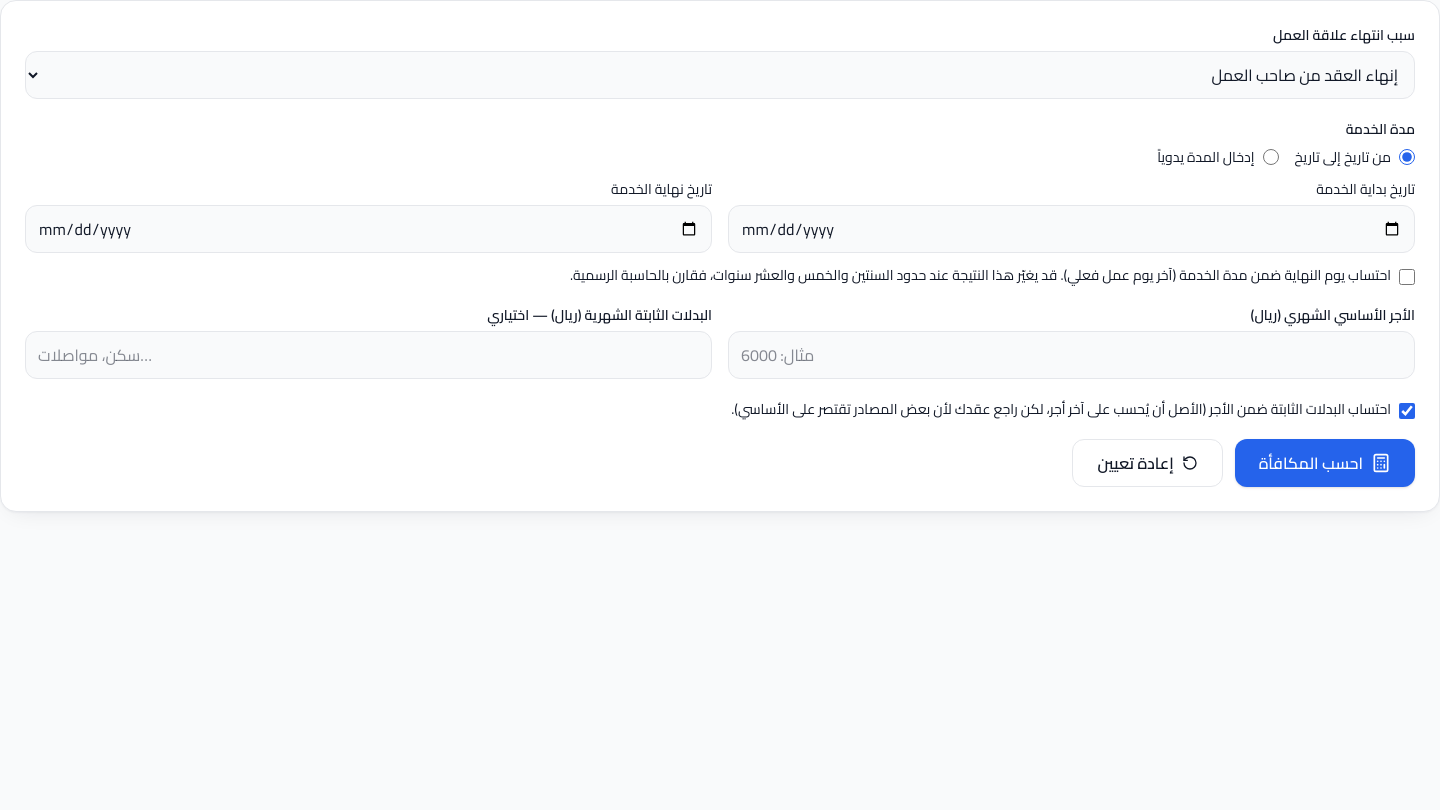
Test: EosCalculator › shows both results when allowances are entered, and honours the checkbox
Click the radio button labelled "إدخال المدة يدوياً" at point(1270, 157), box top-left (1262, 149), bottom-right (1278, 165)
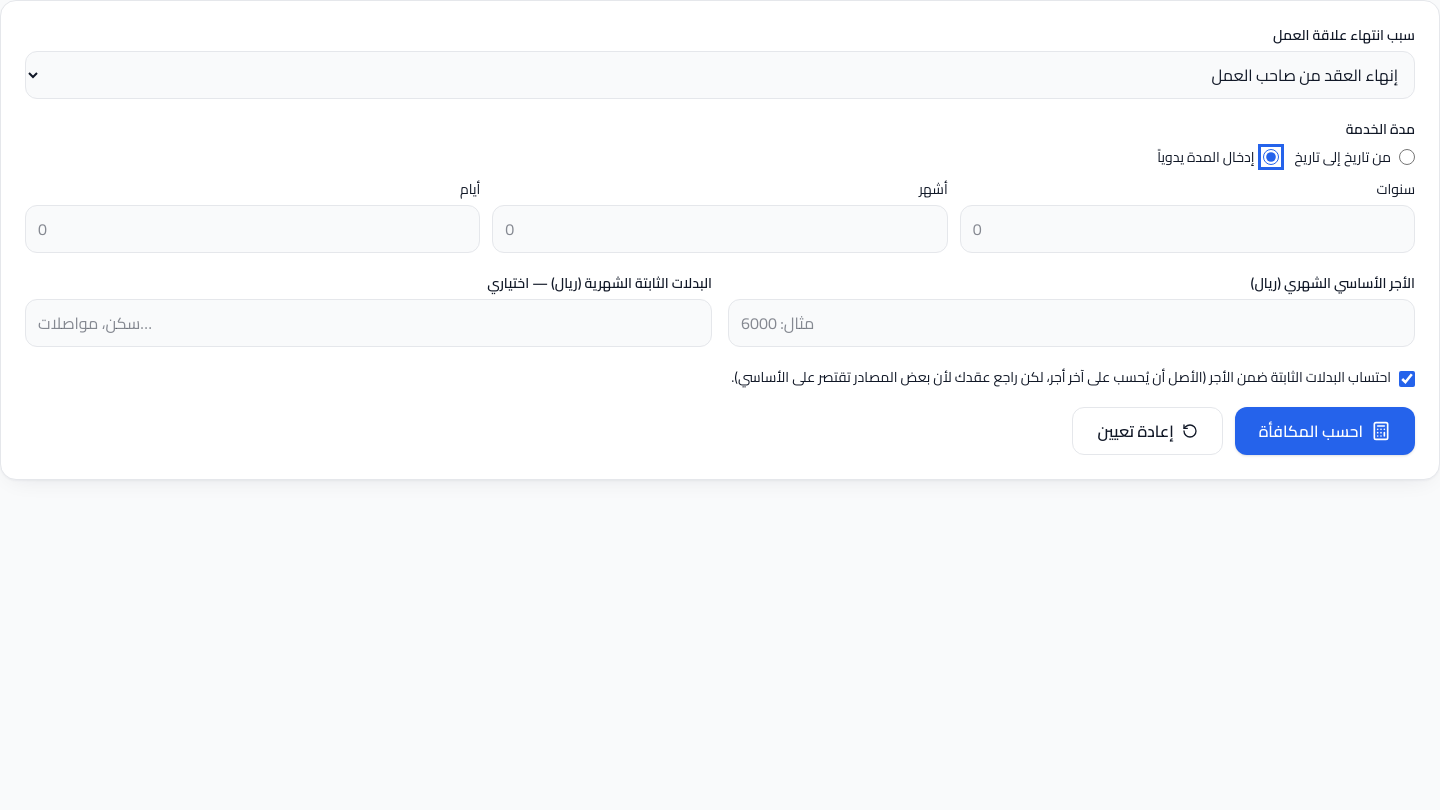
Type "6" into the field labelled "سنوات" at point(1187, 229), box top-left (960, 205), bottom-right (1415, 253)
Type "5000" into the field labelled "الأجر الأساسي الشهري (ريال)" at point(1072, 323), box top-left (728, 299), bottom-right (1415, 347)
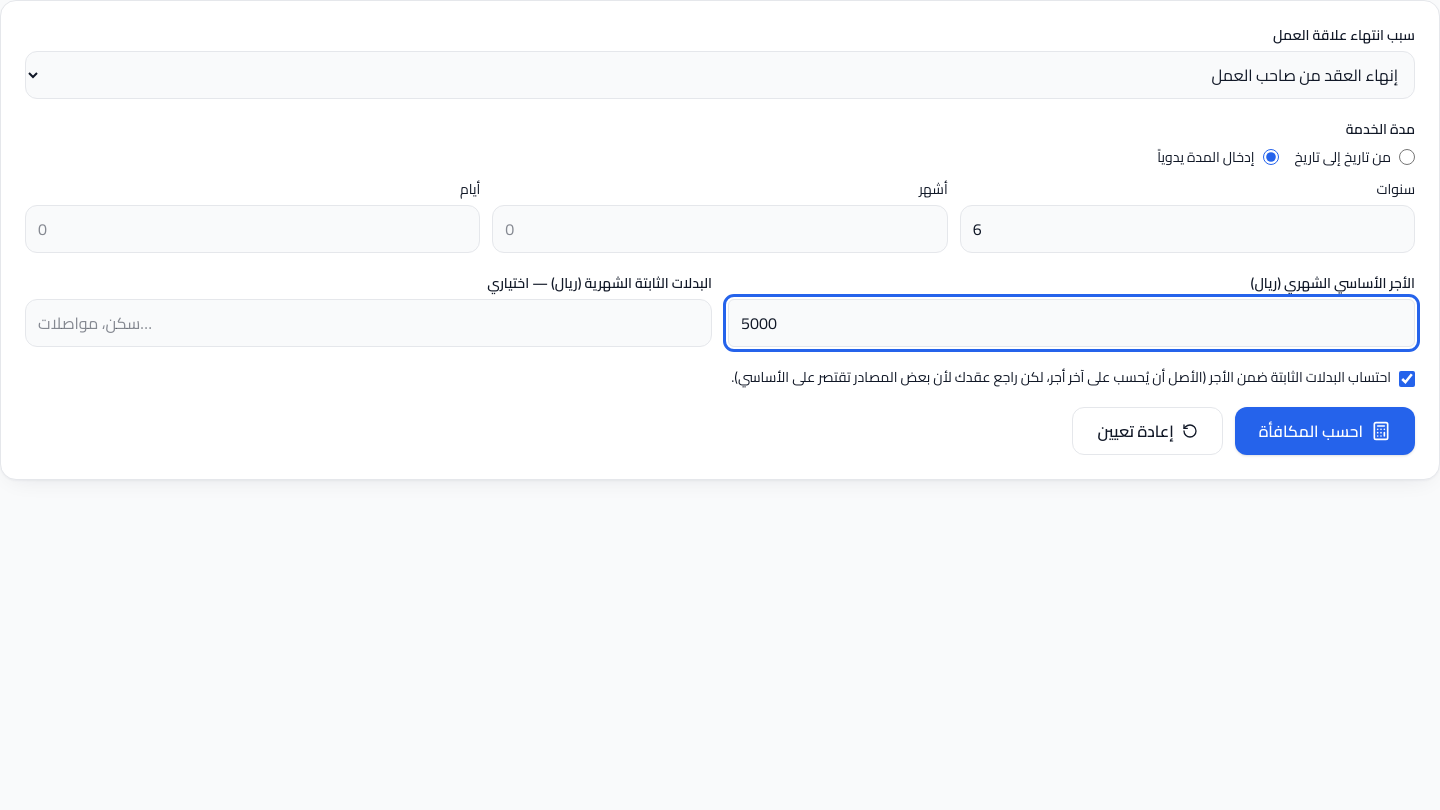
Type "1500" into the field labelled "البدلات الثابتة الشهرية (ريال) — اختياري" at point(368, 323), box top-left (25, 299), bottom-right (712, 347)
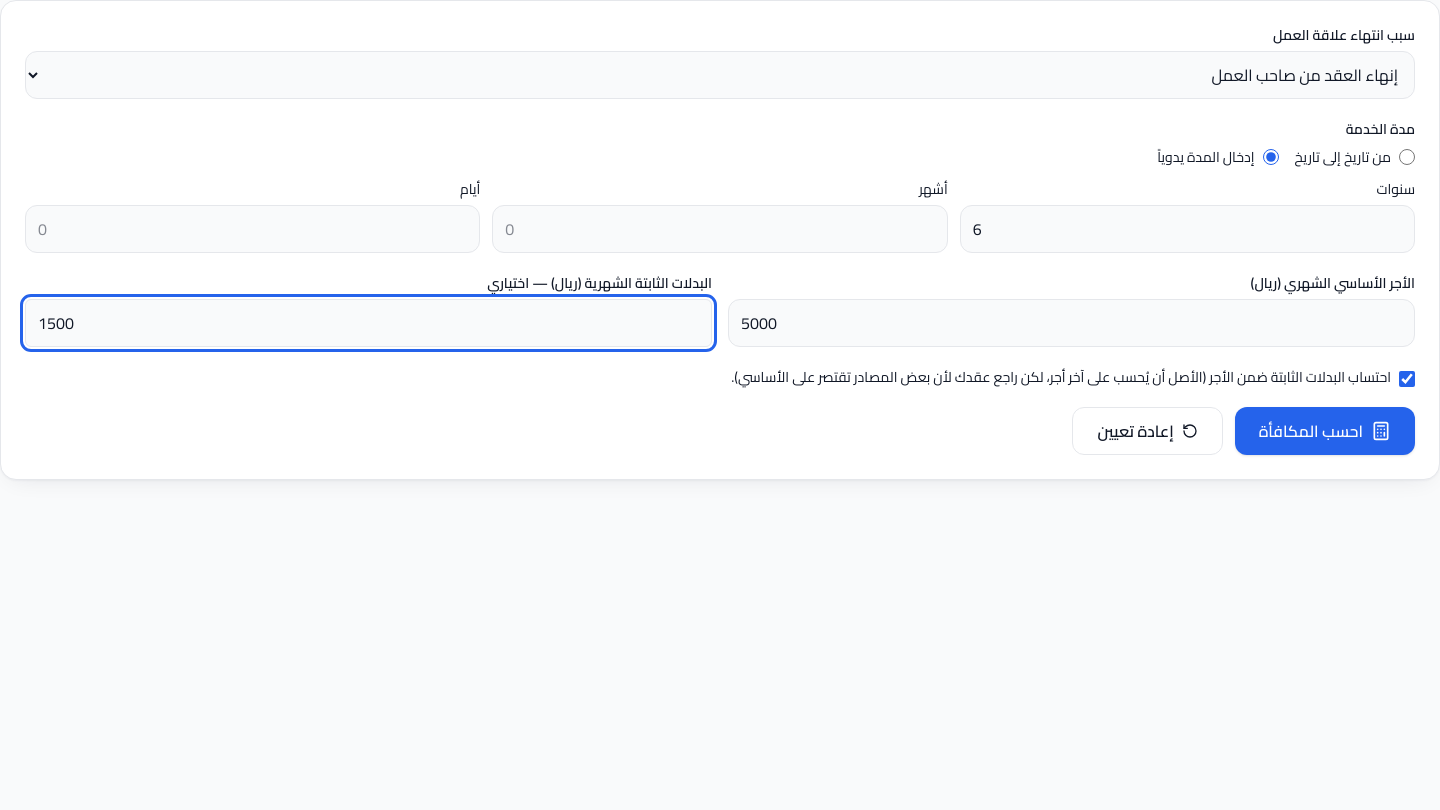
Click the button "احسب المكافأة" at point(1325, 431), box top-left (1235, 407), bottom-right (1415, 455)
(page scrolled)
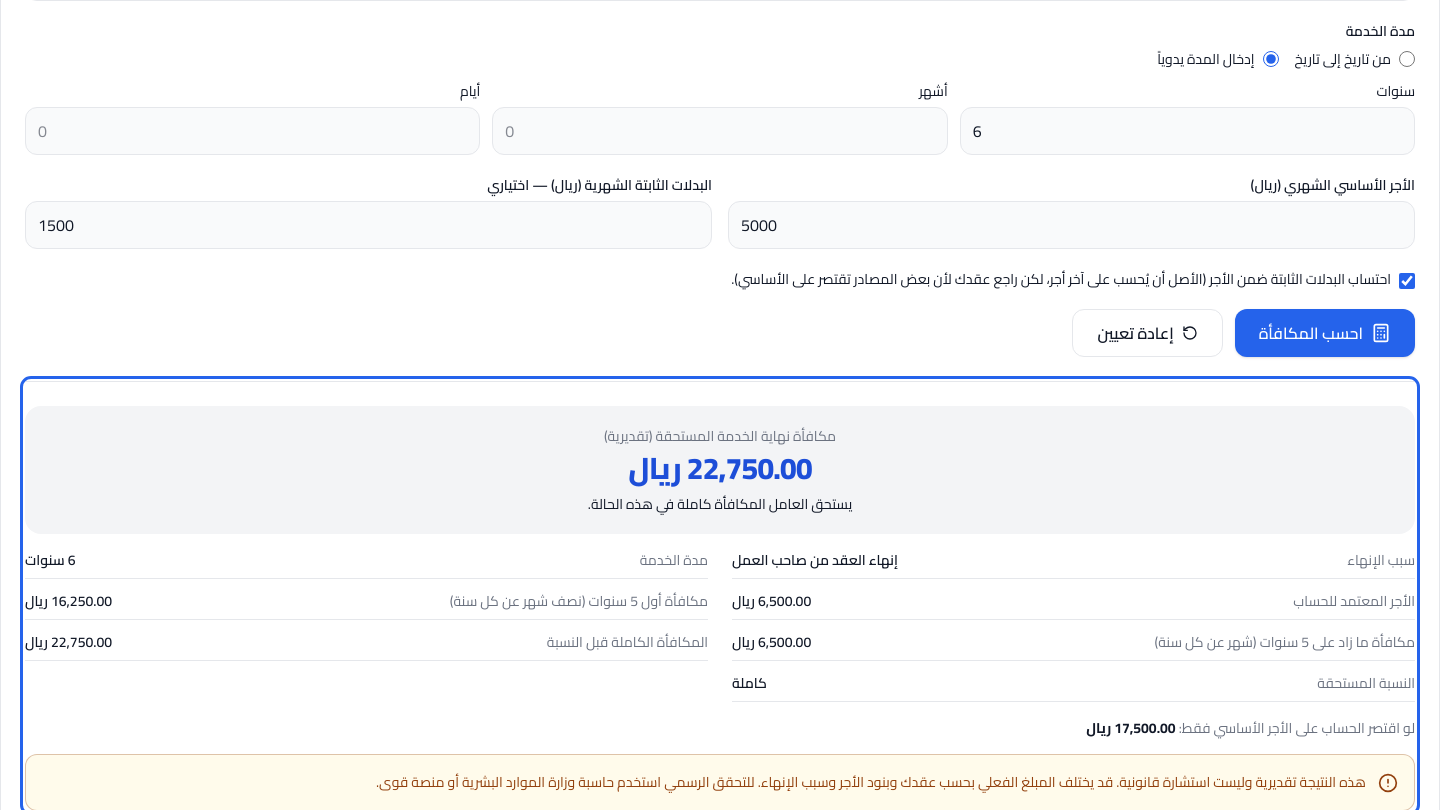
Check: the text with test id "eos-total" reads "22,750.00 ريال", box top-left (628, 440), bottom-right (812, 496)
Check: the element with test id "eos-result" shows "17,500.00 ريال", box top-left (1086, 715), bottom-right (1176, 741)
Click the checkbox labelled "احتساب البدلات" at point(1407, 281), box top-left (1399, 273), bottom-right (1415, 289)
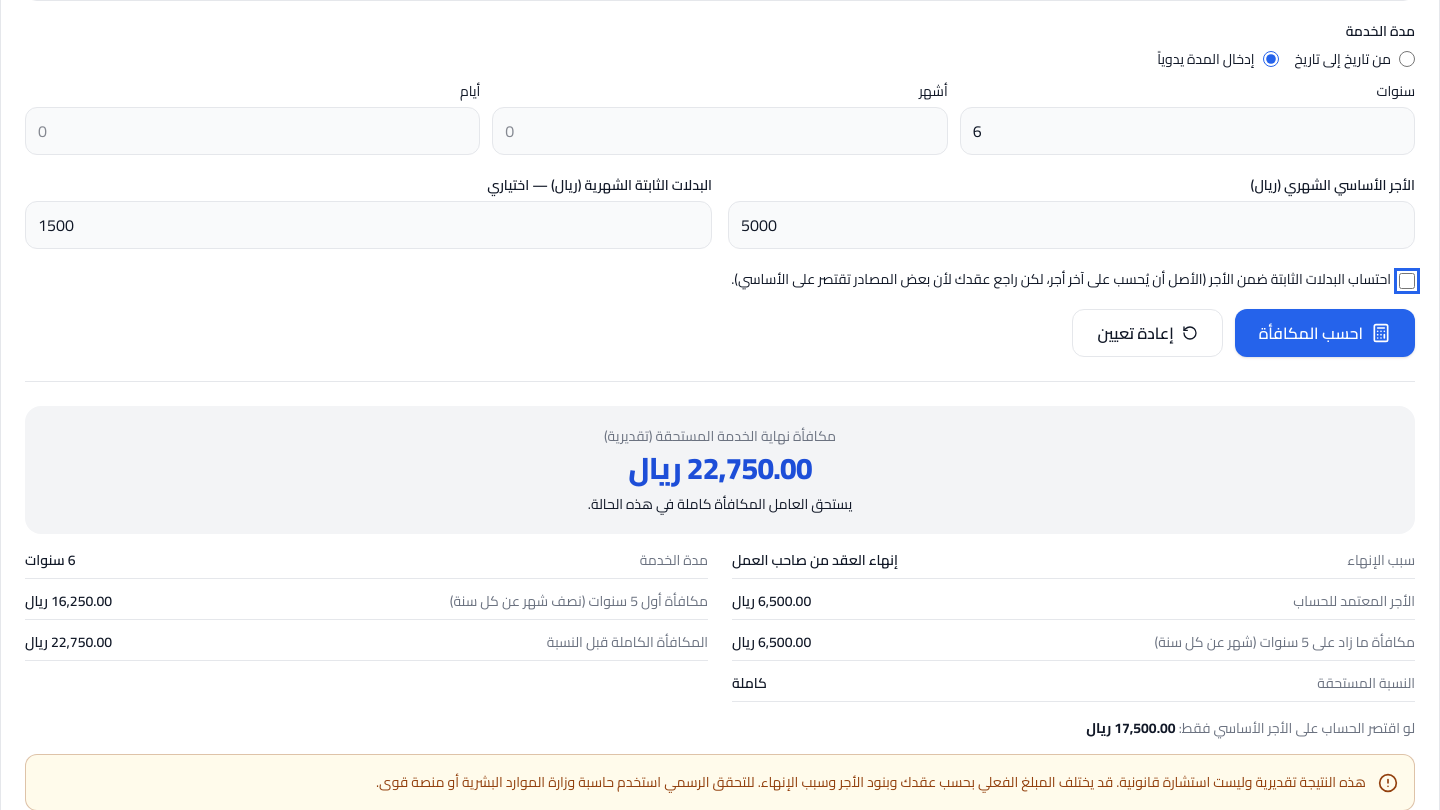
Click the button "احسب المكافأة" at point(1325, 333), box top-left (1235, 309), bottom-right (1415, 357)
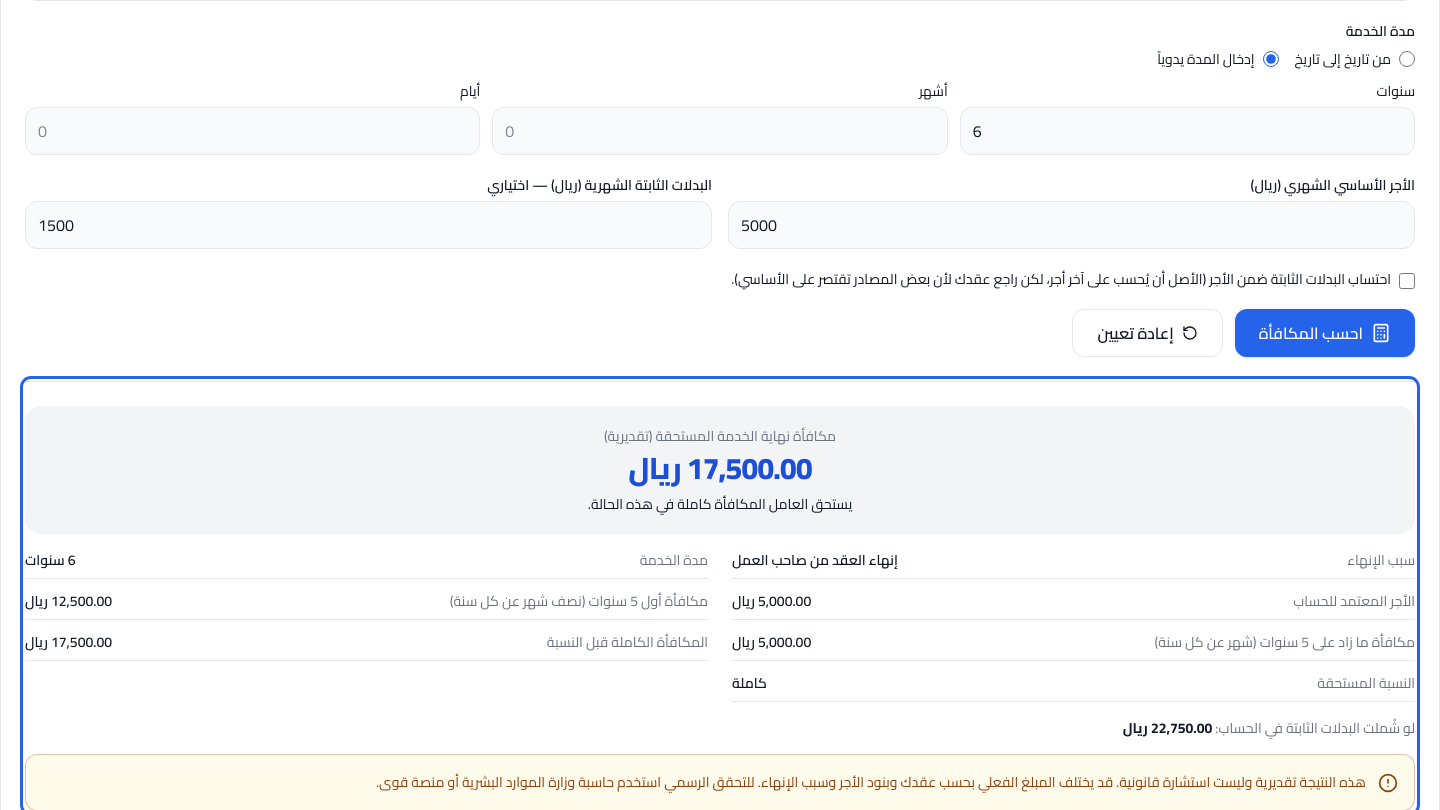
Check: the element with test id "eos-result" shows "22,750.00 ريال", box top-left (1123, 715), bottom-right (1212, 741)
Check: the text with test id "eos-total" reads "17,500.00 ريال", box top-left (628, 440), bottom-right (812, 496)
